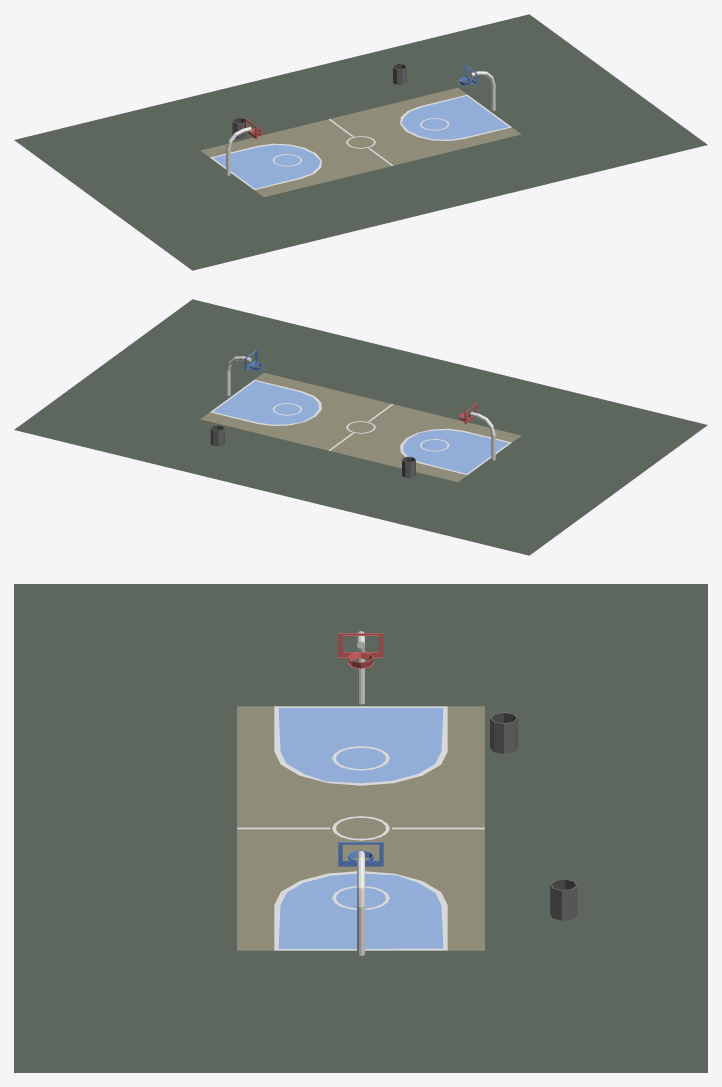
The model's file is stage19.glb.
3 renders of one model, top to bottom at view 1: azimuth 30°, elevation 25°; view 2: azimuth 150°, elevation 25°; view 3: azimuth 270°, elevation 25°, orthographic. The views are drawn at different scales.
Visible parts, largest first — view 1: Ground, Cylinder.001, Cylinder; view 2: Ground, Cylinder.001, Cylinder; view 3: Ground, Cylinder, Cylinder.001, Torus.001, Cylinder.002, Cylinder.003, Torus.002.
Part boxes in pixels (x1,y1,x2,y2): Ground: (14, 14, 707, 270); Cylinder.001: (400, 94, 511, 140); Cylinder: (210, 143, 321, 189); Ground: (14, 299, 707, 555); Cylinder.001: (210, 379, 321, 425); Cylinder: (400, 428, 511, 474); Ground: (14, 584, 707, 1072); Cylinder: (274, 706, 447, 785); Cylinder.001: (274, 871, 447, 950); Torus.001: (338, 842, 383, 955); Cylinder.002: (490, 712, 518, 753); Cylinder.003: (550, 879, 577, 920); Torus.002: (338, 631, 383, 704).
Size of what is drawn, in the model's own units: 70 by 8.05 by 42.
